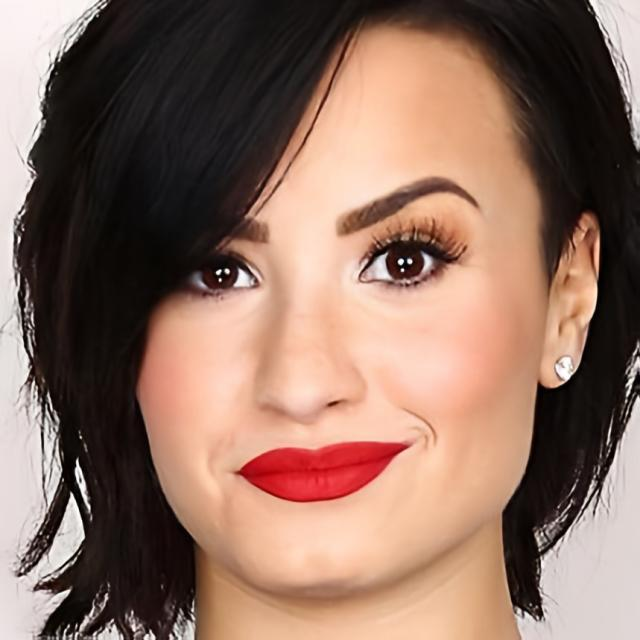content: (134, 32, 546, 597)
